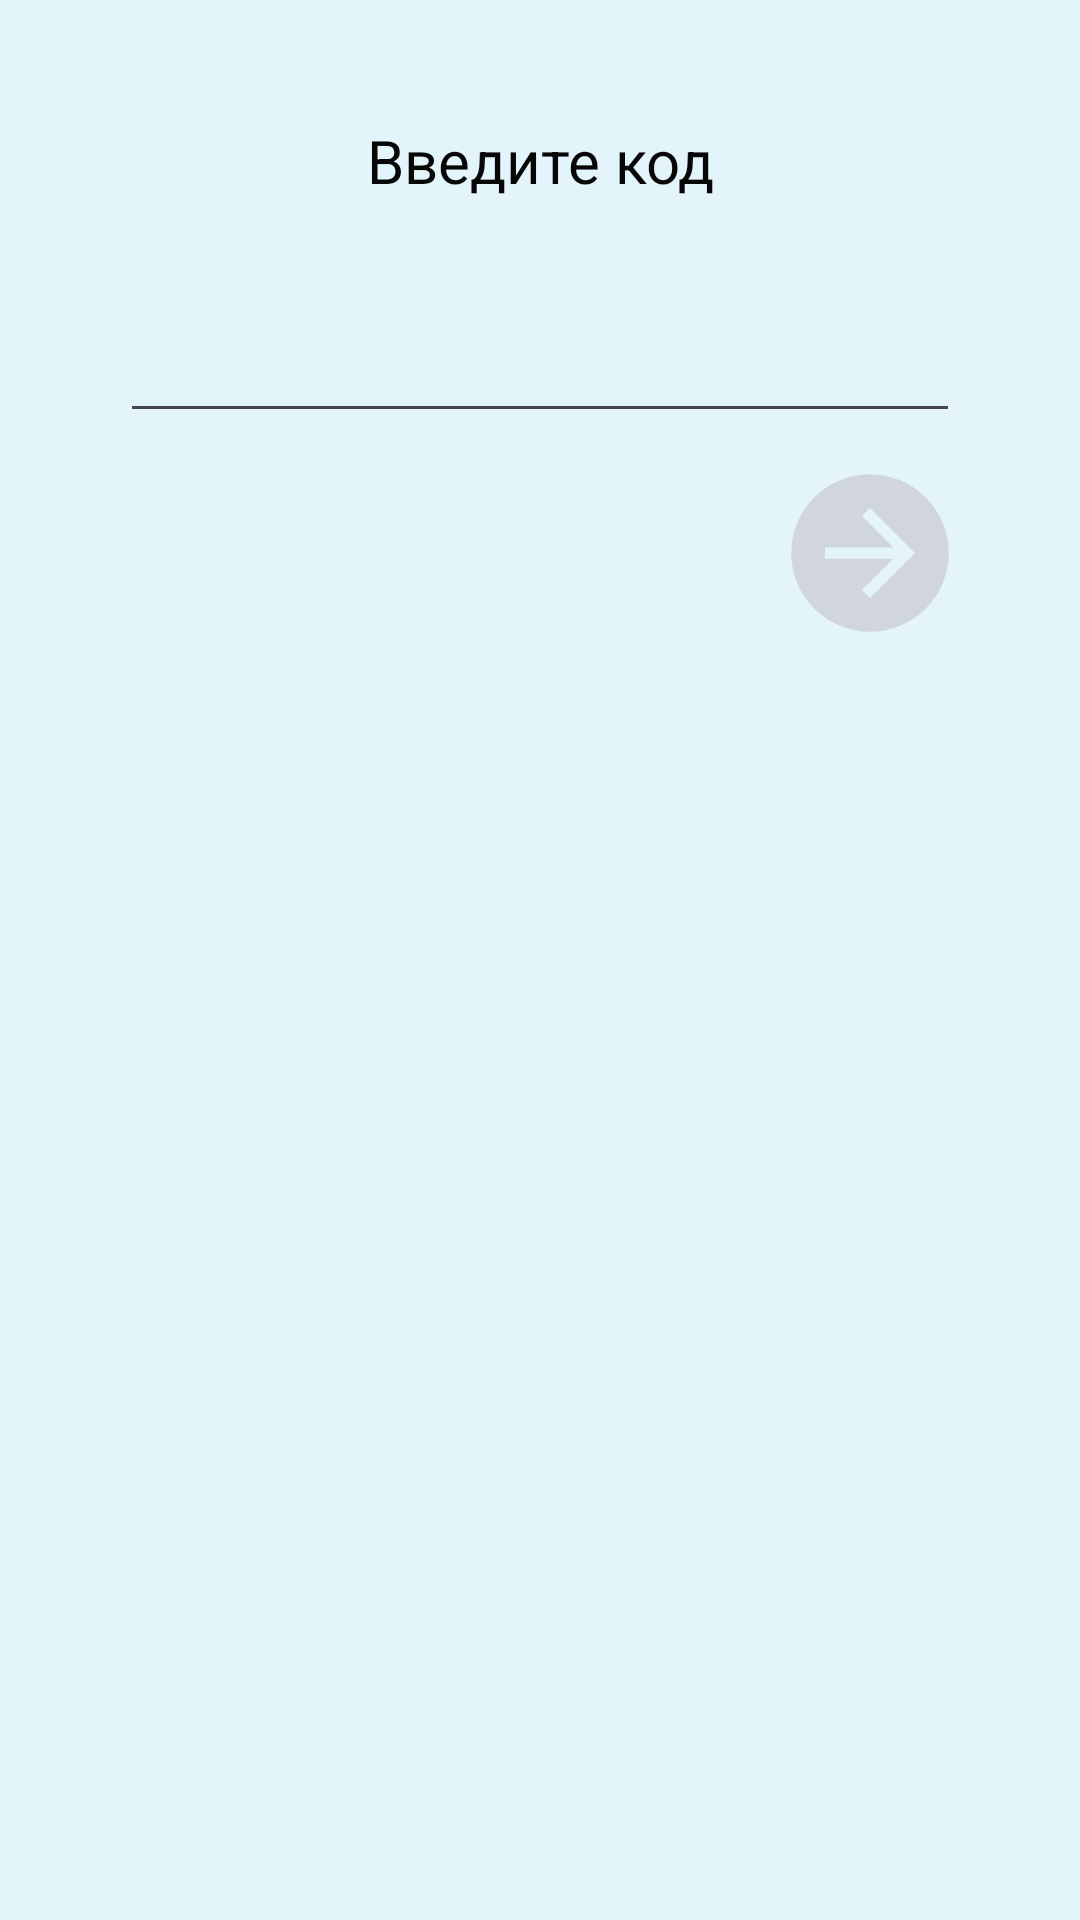

Named icons in this screenshot (1080 × 1920) and their bounding boxes, (x1, y1, x2, y2):
next: (792, 475, 948, 631)
